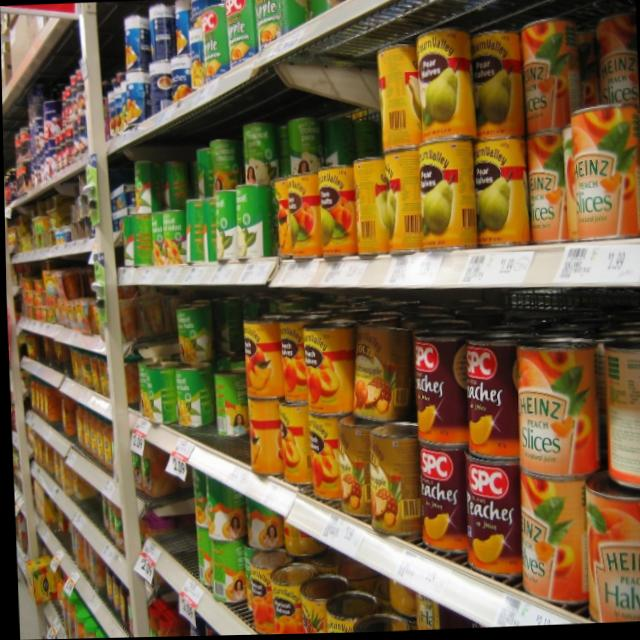q91: (199, 482, 241, 557), (203, 538, 245, 603), (237, 120, 274, 186), (212, 373, 248, 440)
